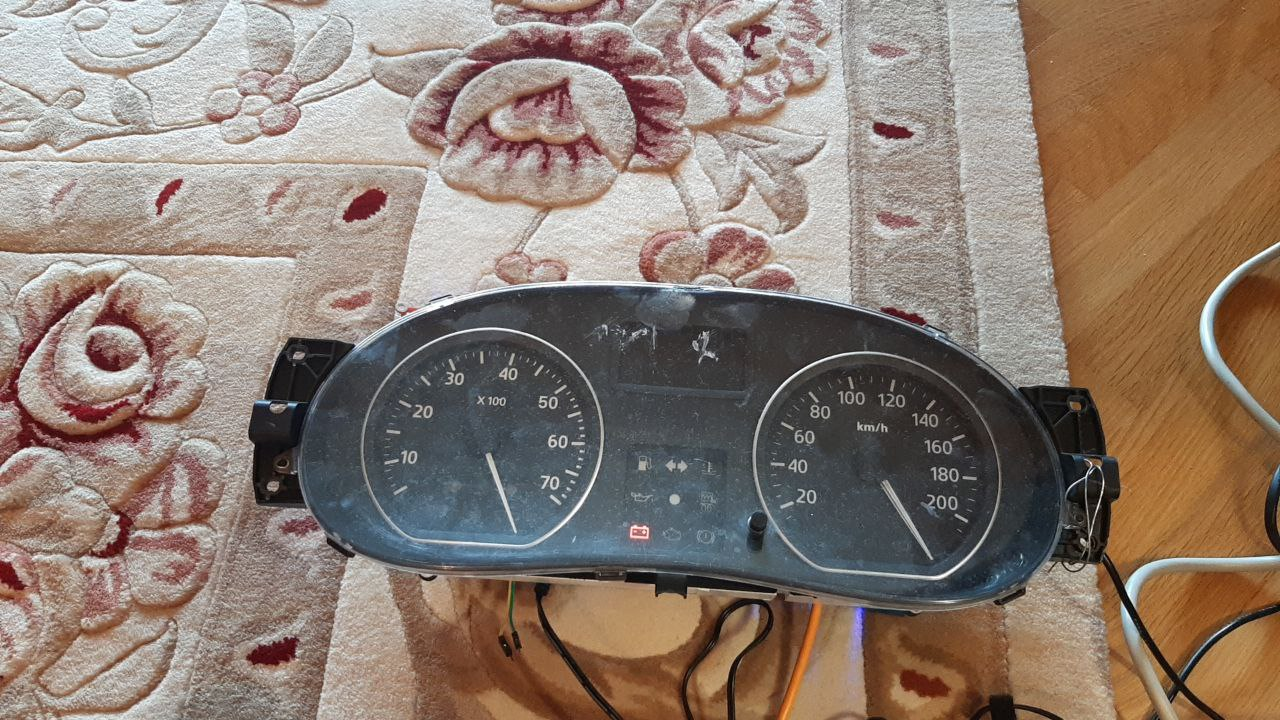accumulator: (627, 522, 652, 540)
